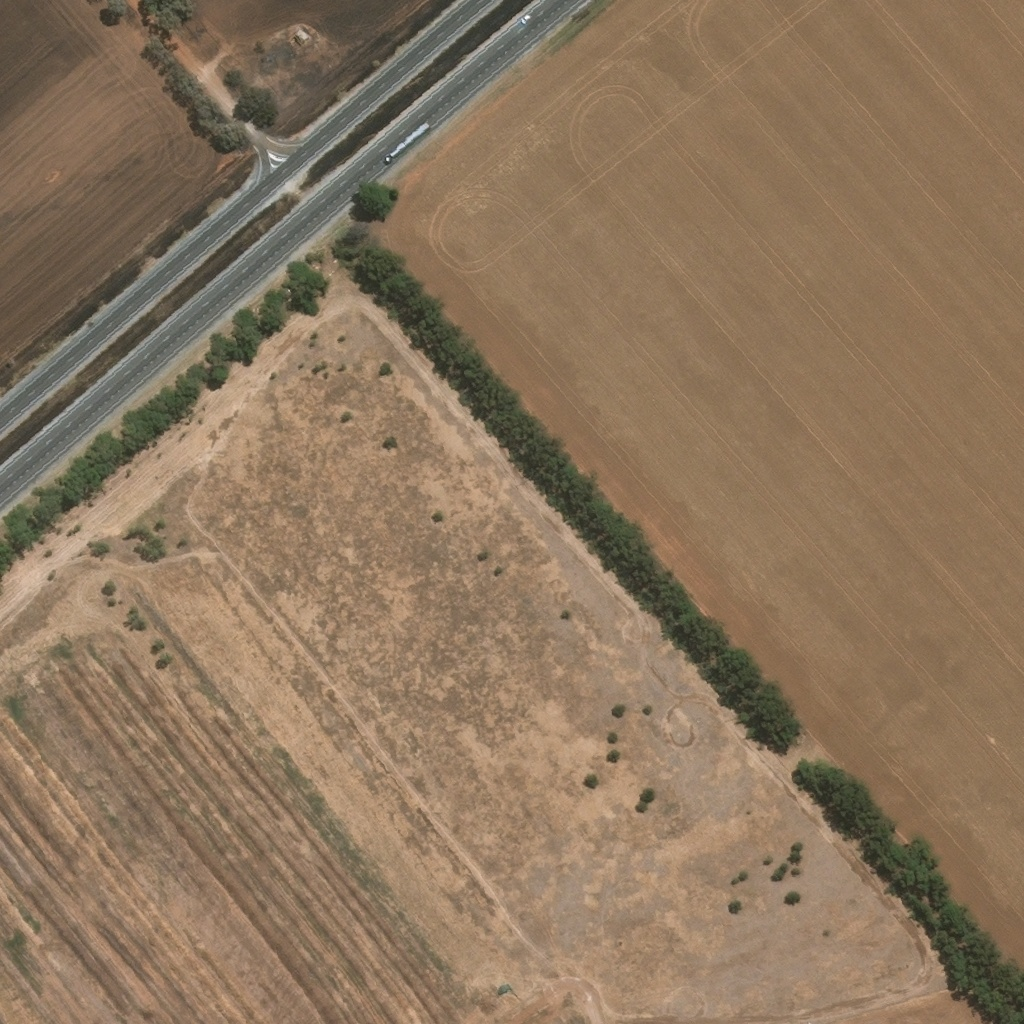2 major-damage: (296, 29, 309, 44)
